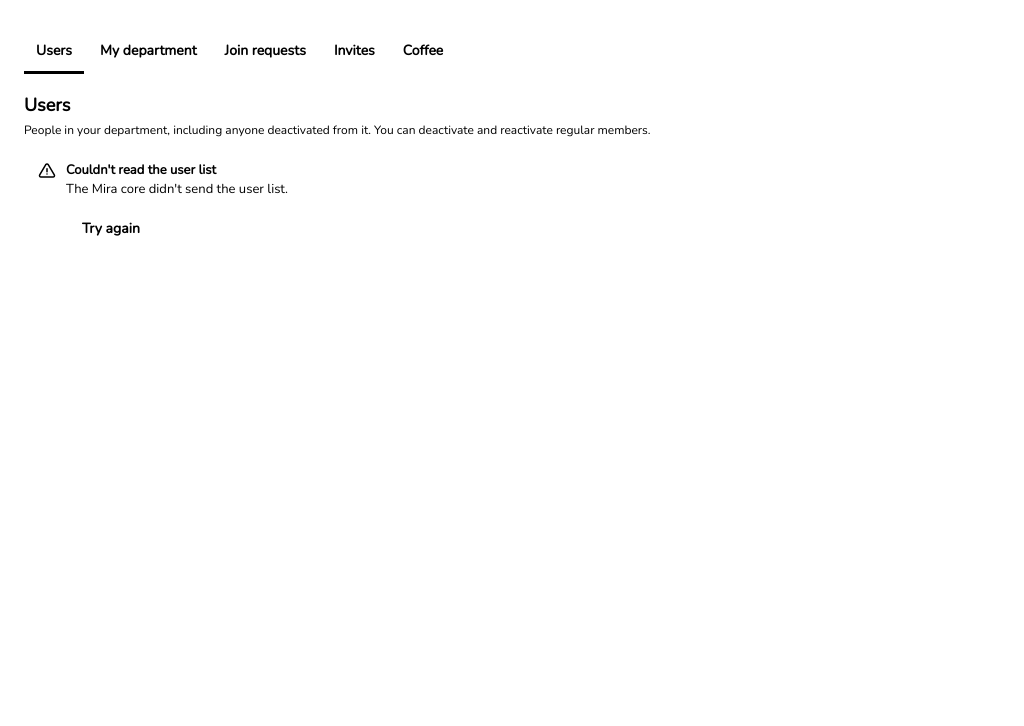
Scenario: Departemen saya dalam bahasa Inggris › semua bagian, tombol, dan pemberitahuan gerbang tanpa teks Indonesia
Later steps or results of the test are not shown.
Click the button "My department" at (148, 52), box 88,30 -> 209,74
(page scrolled)
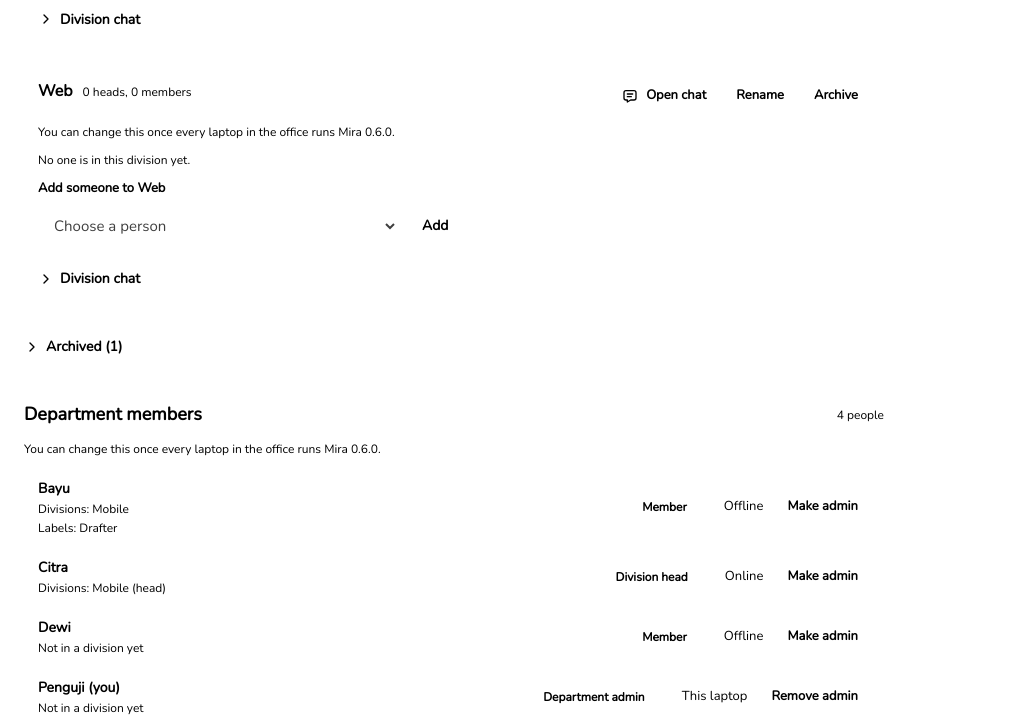
Check: the heading "Department members" is shown, box 24,400 -> 202,428
